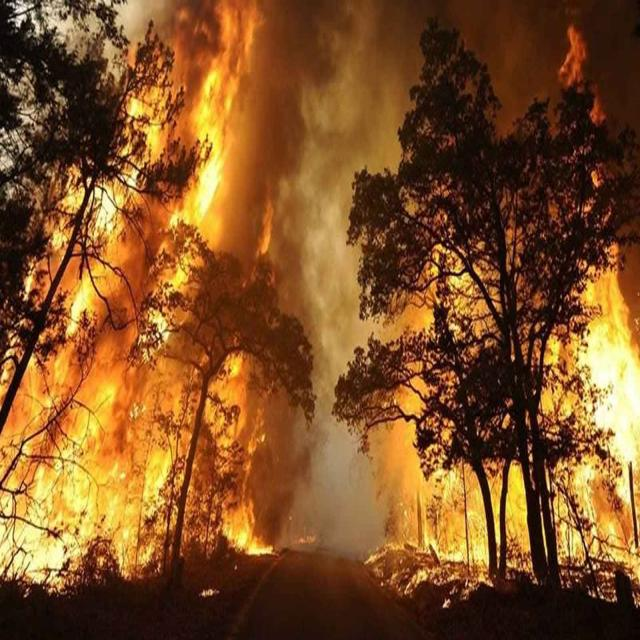Fire: (78, 16, 260, 292), (5, 365, 160, 593), (158, 287, 270, 559), (12, 244, 148, 394), (417, 452, 587, 566), (404, 257, 514, 408), (566, 300, 640, 501)
Smoke: (430, 0, 640, 270), (234, 0, 423, 292)
